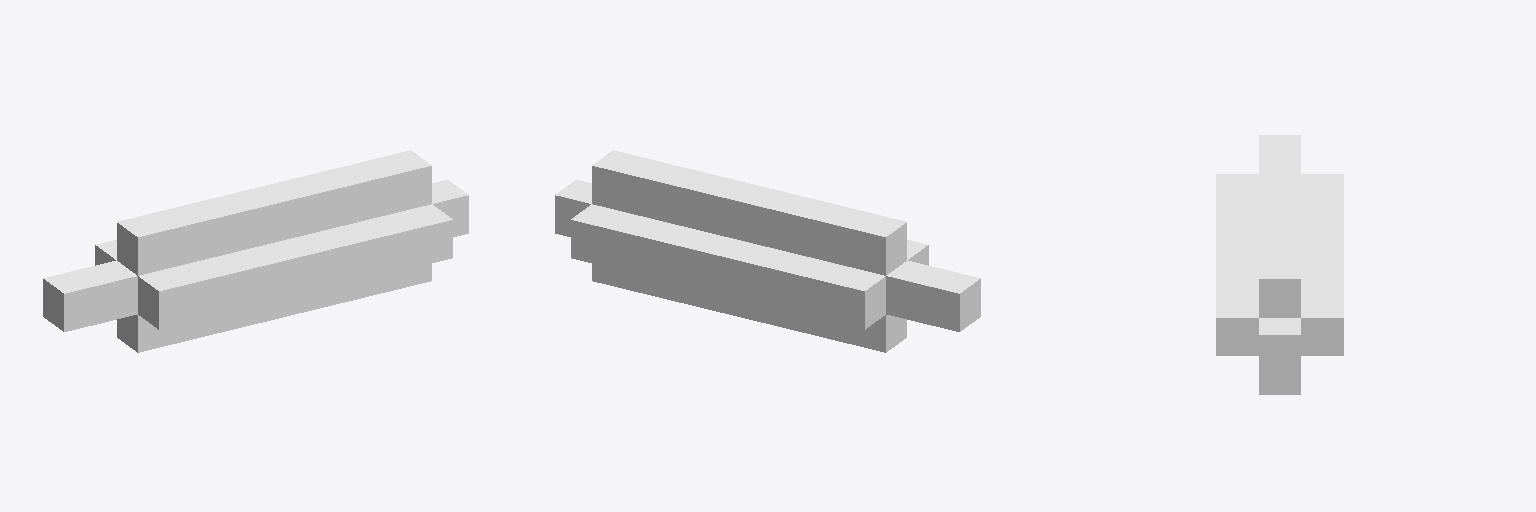
Rendered from Pulka.obj.
The picture shows the model from 3 angles: view 1: azimuth 30°, elevation 25°; view 2: azimuth 150°, elevation 25°; view 3: azimuth 270°, elevation 25°; orthographic projection.
Size of the model in its own units: 11 by 3 by 3.